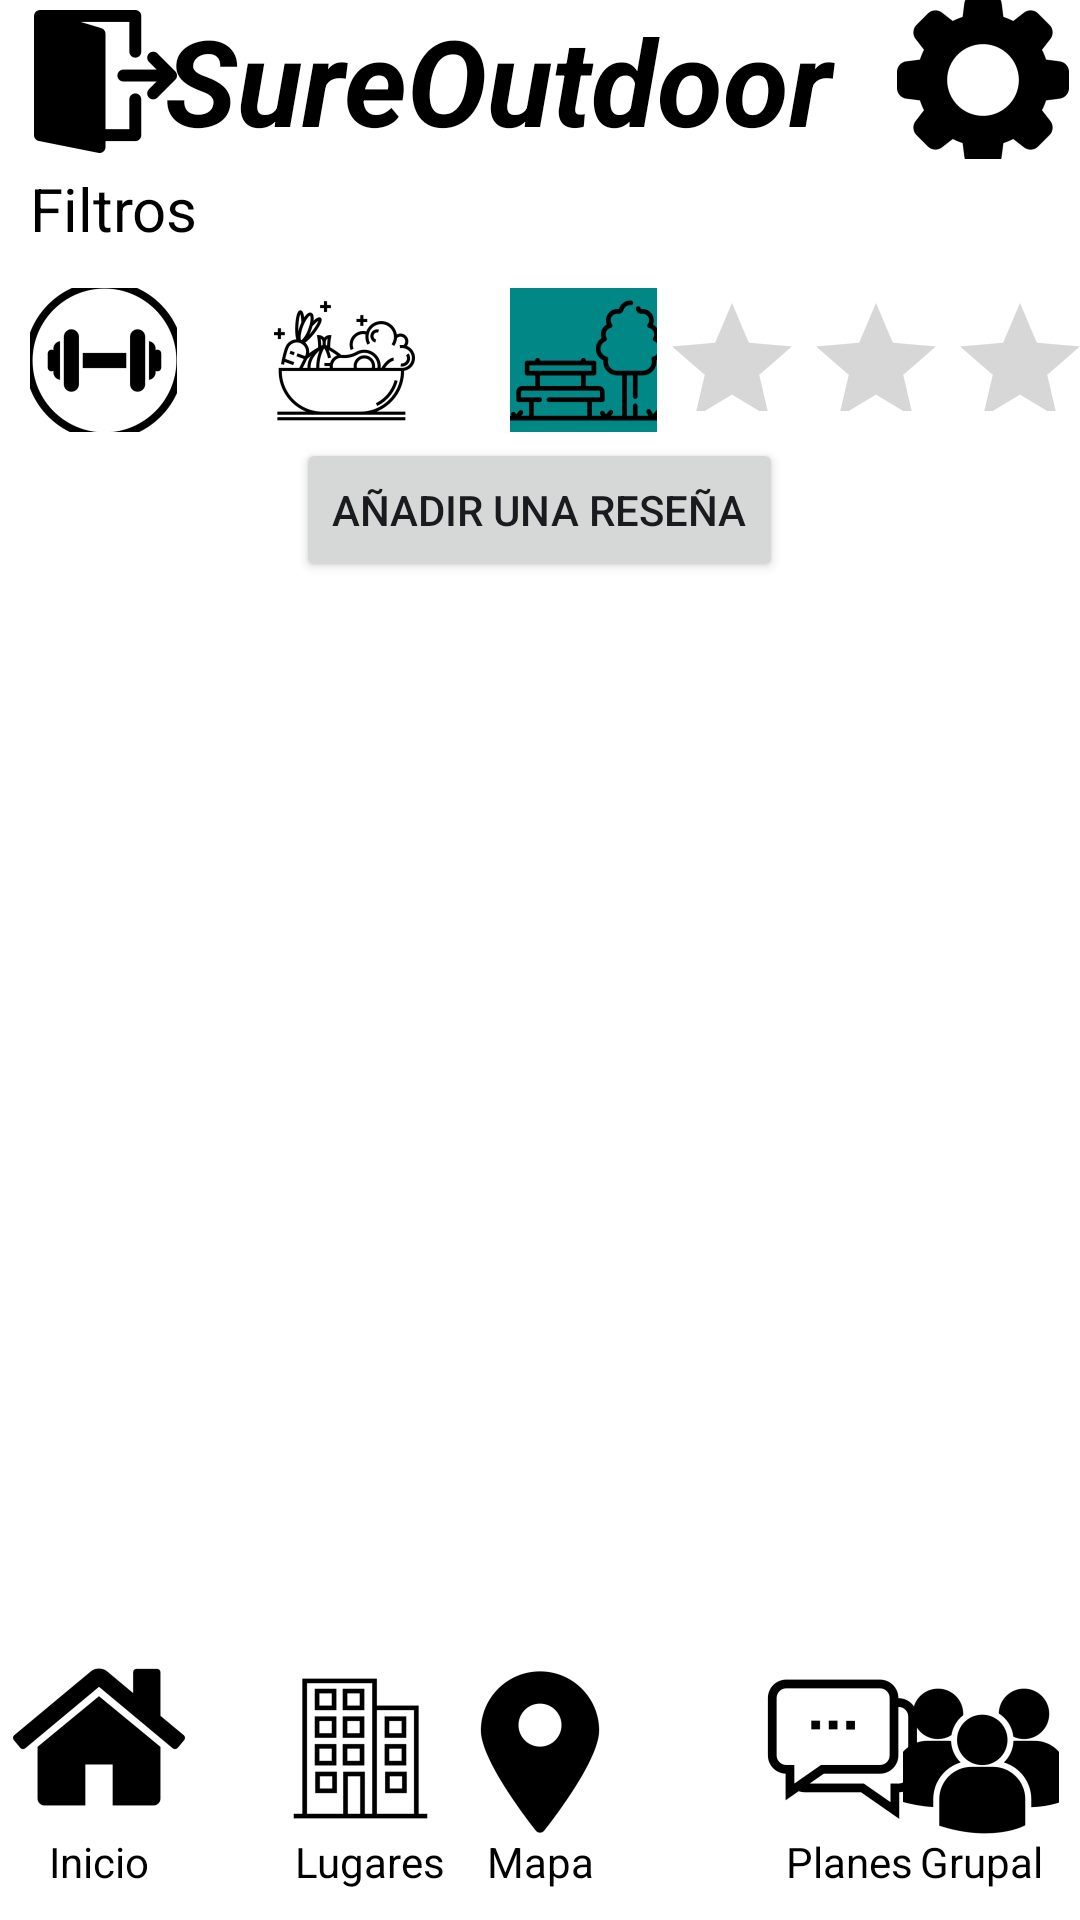

Screen size 1080 × 1920. Icon name, then its center in pixels as (x=x, y=y):
Config: (x=983, y=79)
iconogym: (x=103, y=360)
park: (x=583, y=360)
Vuelve: (x=88, y=81)
